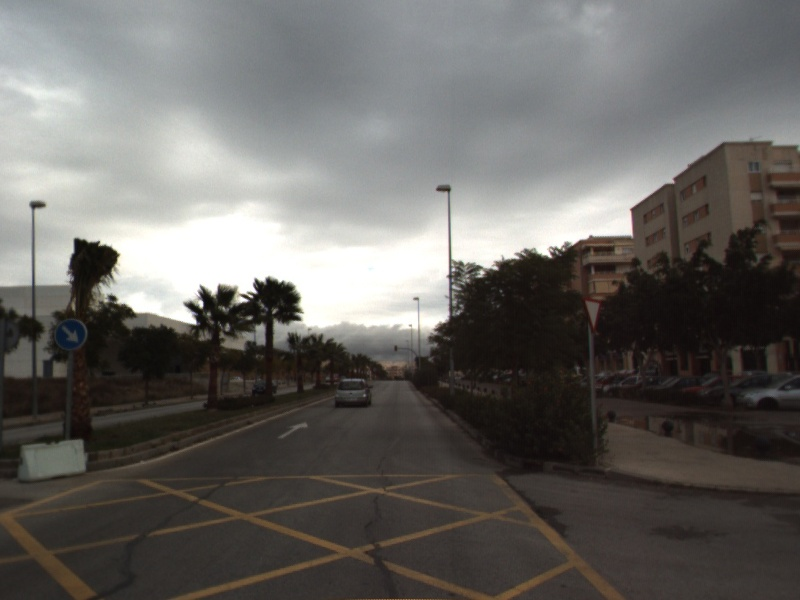STRAIGHT: (276, 420, 310, 440)
